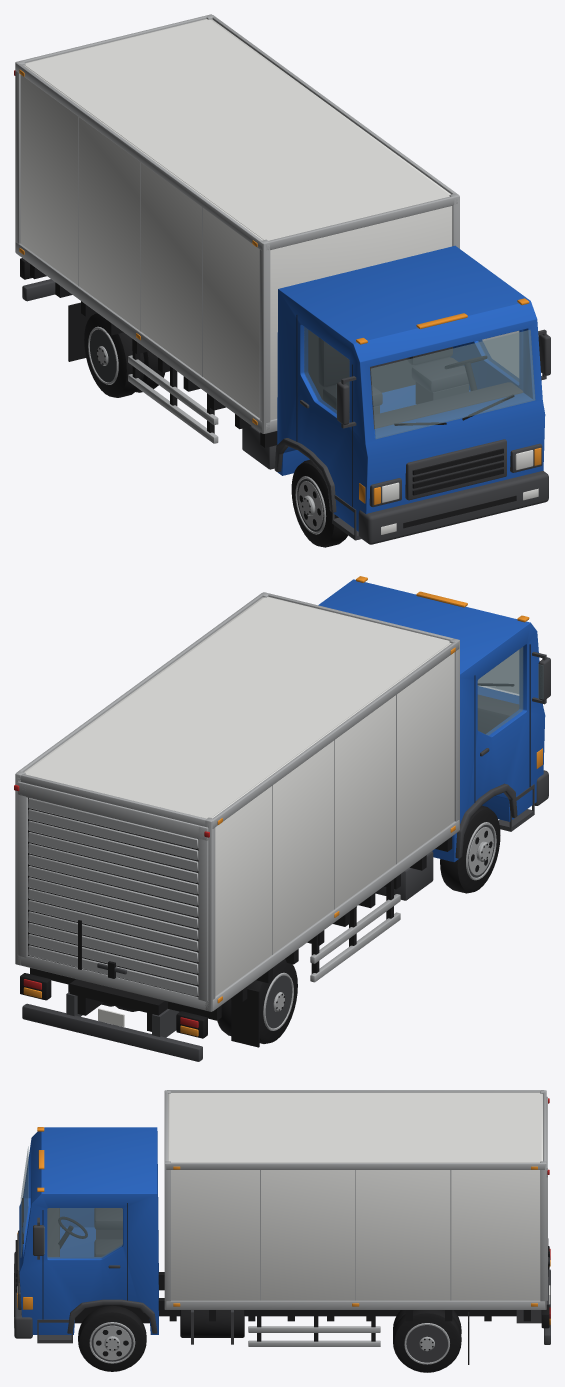
File: BoxTruck.fbx
The picture shows the model from 3 angles, top to bottom: view 1: azimuth 30°, elevation 25°; view 2: azimuth 150°, elevation 25°; view 3: azimuth 270°, elevation 25°; orthographic projection. The views are drawn at different scales.
Parts seen in each view (by area): view 1: BoxTruck_Mesh; view 2: BoxTruck_Mesh; view 3: BoxTruck_Mesh.
Part boxes in pixels (x1,y1,x2,y2): BoxTruck_Mesh: (14,14,550,547); BoxTruck_Mesh: (14,576,550,1061); BoxTruck_Mesh: (14,1090,550,1372).
Bounding box in the file's own units: 2.58 × 3.32 × 7.51.
